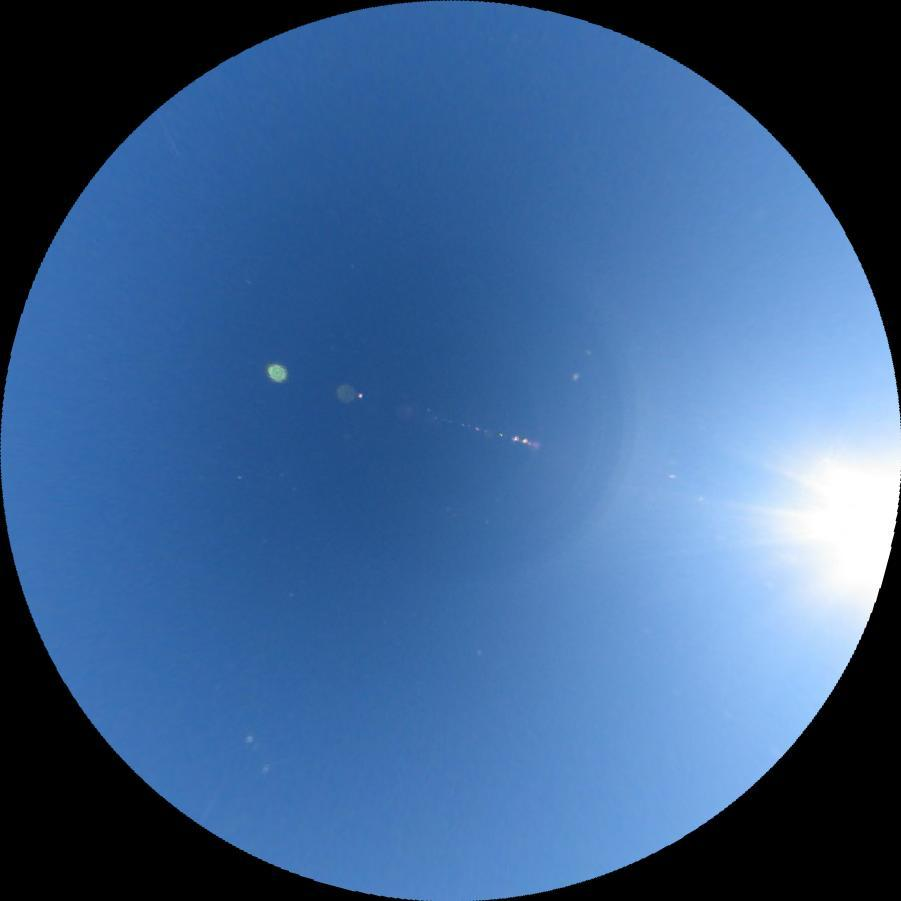contrail young: (154, 110, 183, 163)
sun: (771, 438, 901, 614)
